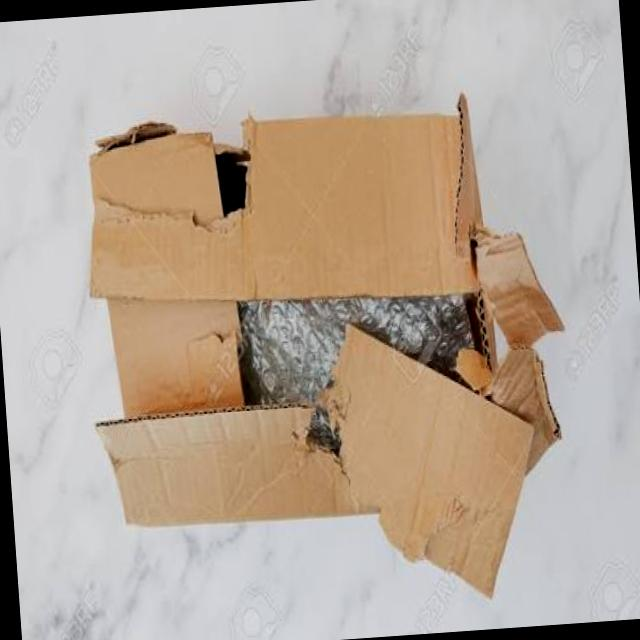package_damage: (85, 91, 569, 575)
